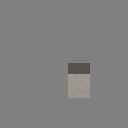supply_truck: (68, 63, 90, 98)
